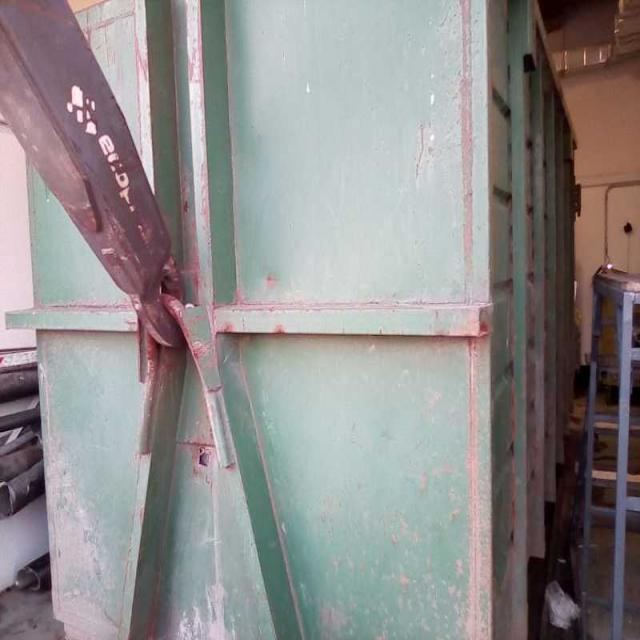Dumpster: (19, 2, 577, 640)
